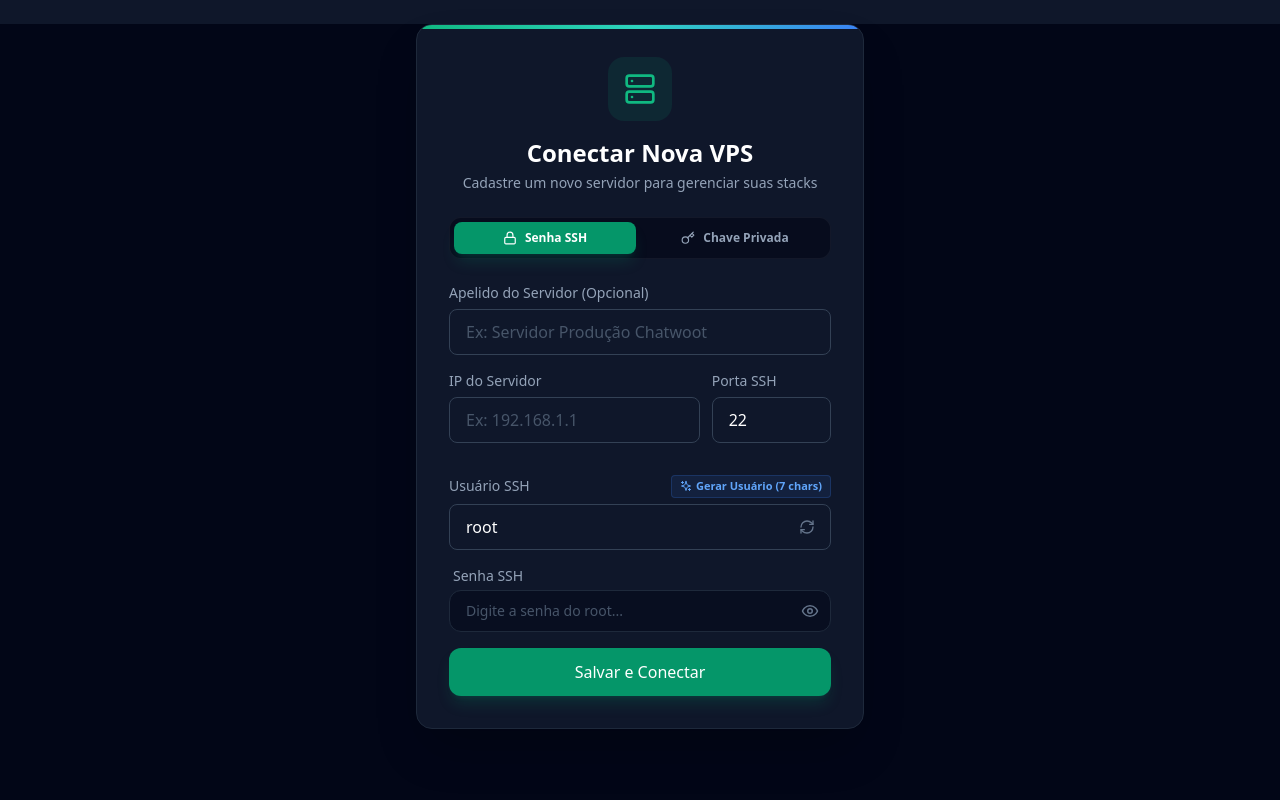
Test: Connect Page Redirection › permite alternar para autenticação por Chave Privada e exibe seleção de chaves
Expected: the button "Senha SSH" is shown, [454,222,636,254]
Click the button "Chave Privada".
click(735, 238)  # box [644,222,826,254]
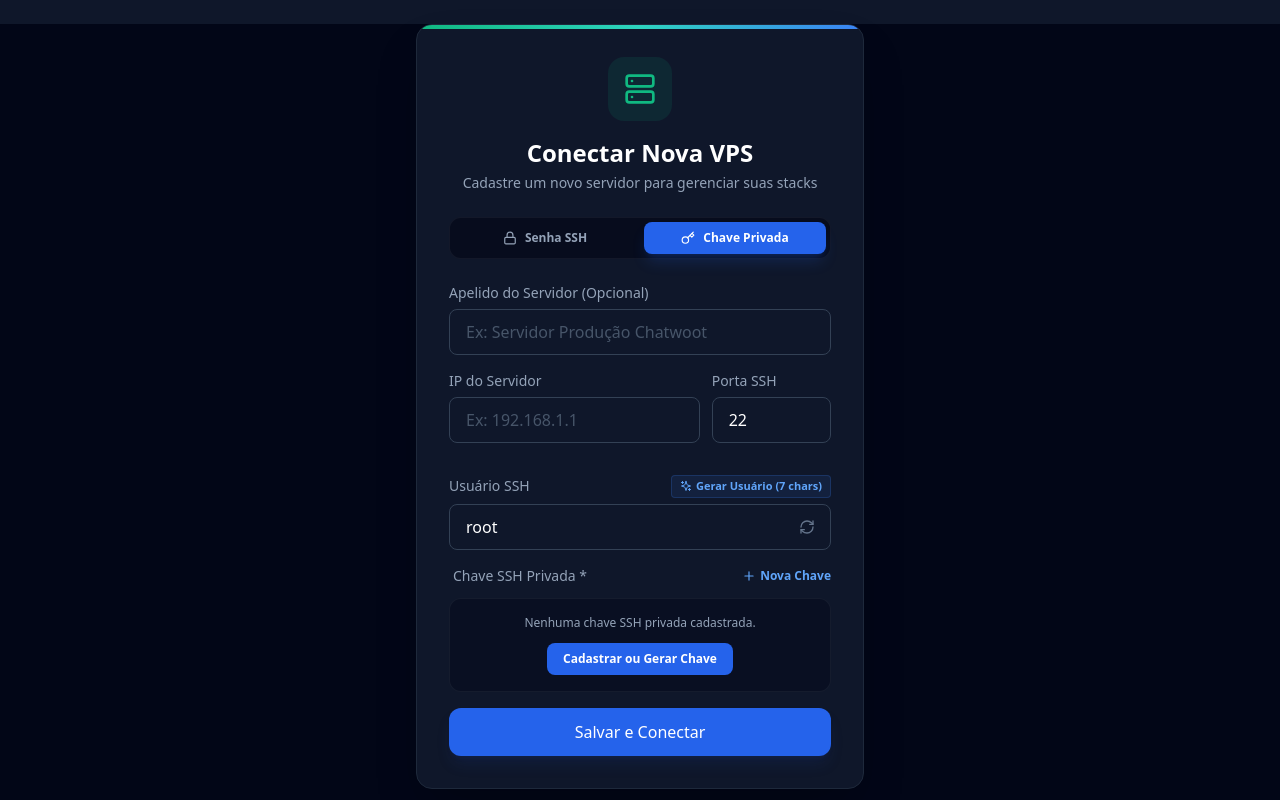
Result: the text "Chave SSH Privada *" is shown at [453,566,587,586]
